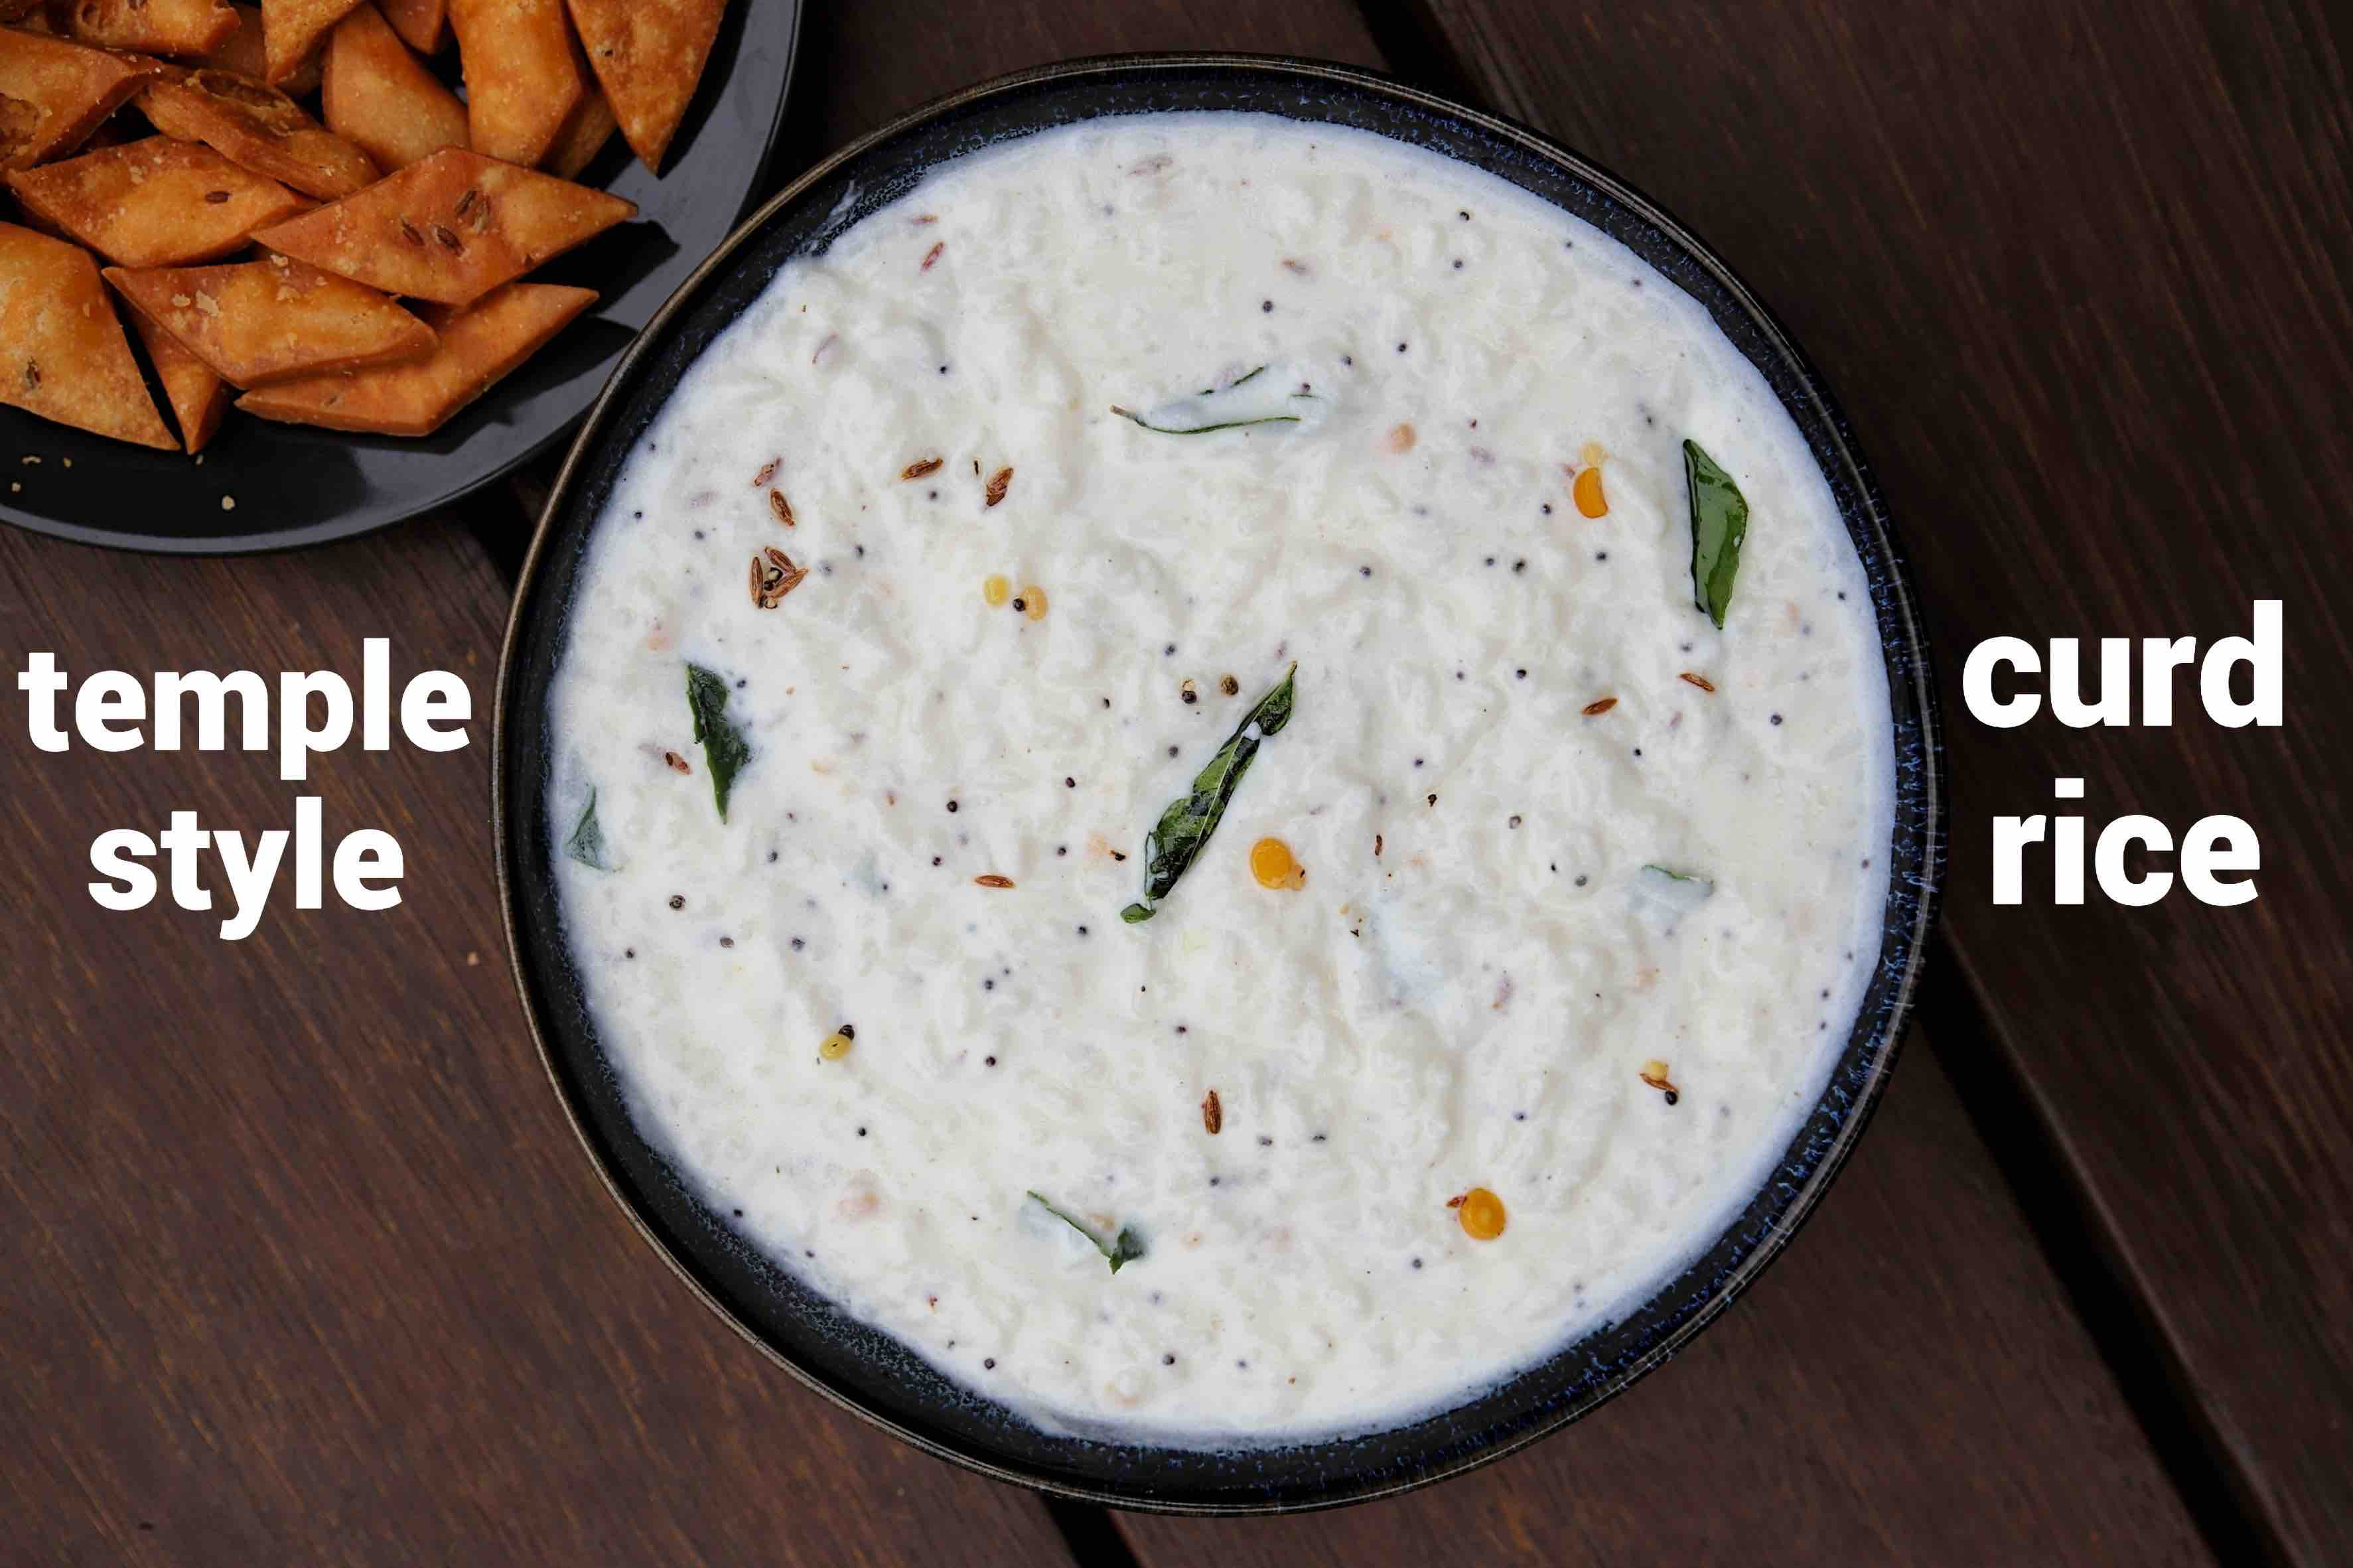curd_rice: (518, 93, 1998, 1386)
